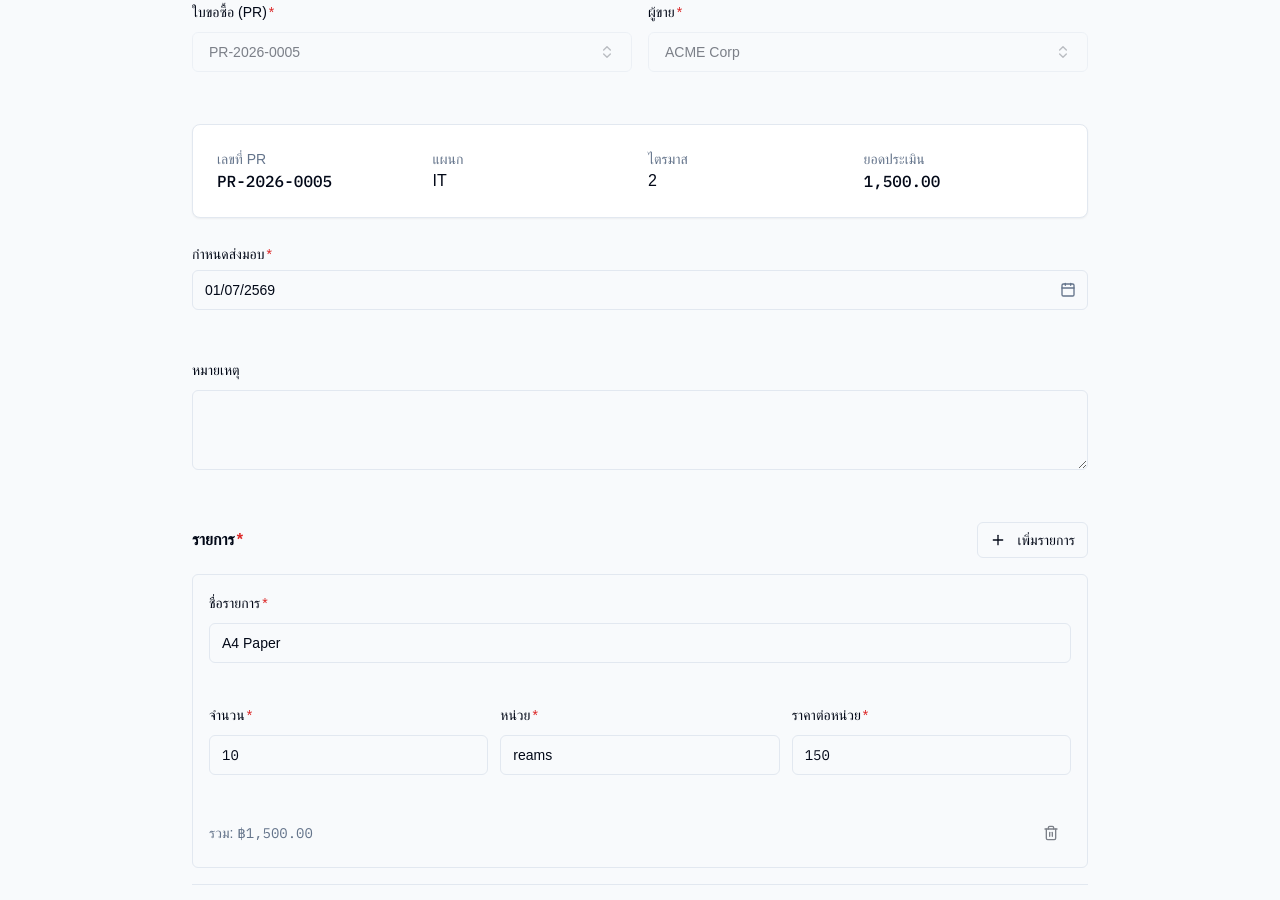
Test: POForm — edit mode resolves PR from the PO, not the eligible list › budget preview reflects the live PO total as item quantities change (watch items)
# bump quantity 10 → 20: poTotal 3000, delta +1500 → remainingAfter 88,500
Replace the text in the number field showing "10" with "20" at (349, 755), box [209, 735, 488, 775]
(page scrolled)
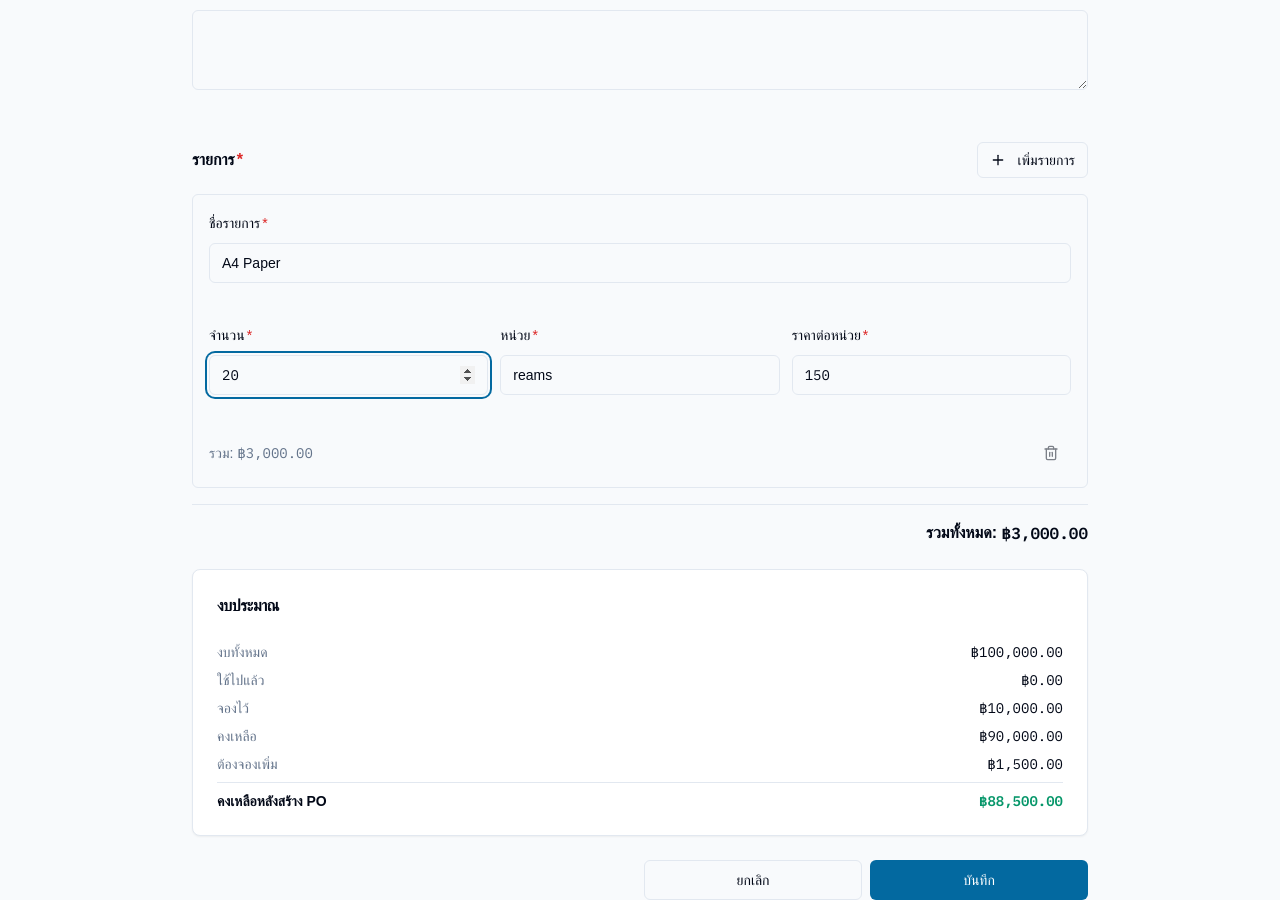
Expected: the text with test id "po-budget-remaining-after" shows "88,500", [979, 792, 1063, 810]
